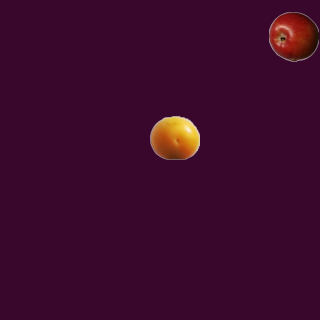Apple Braeburn: (268, 11, 318, 61)
Cherry Wax Yellow: (149, 112, 199, 162)
